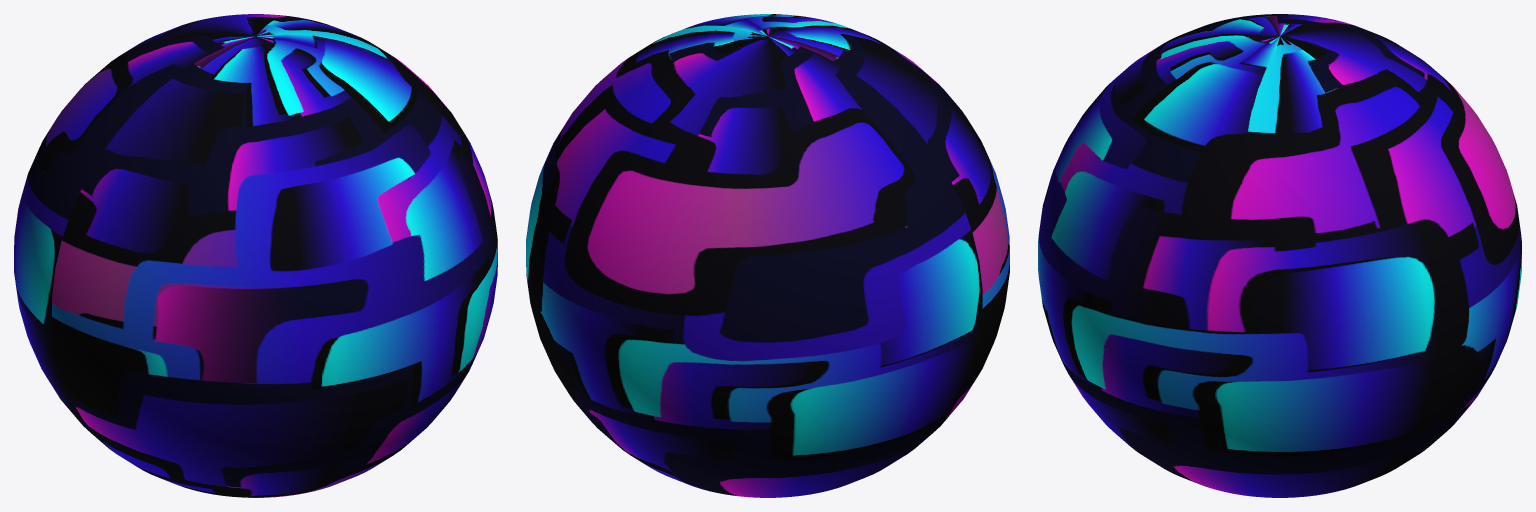
File: marble_high_poly.fbx
3 views of the same model, side by side, from view 1: azimuth 30°, elevation 25°; view 2: azimuth 150°, elevation 25°; view 3: azimuth 270°, elevation 25° (orthographic).
Parts seen in each view (by area): view 1: HighResMarbel; view 2: HighResMarbel; view 3: HighResMarbel.
Boxes of the visible parts, x1=… form: HighResMarbel: x1=14, y1=14, x2=497, y2=497; HighResMarbel: x1=526, y1=14, x2=1009, y2=497; HighResMarbel: x1=1038, y1=14, x2=1521, y2=497.
Bounding box in the file's own units: 101 × 102 × 101.
